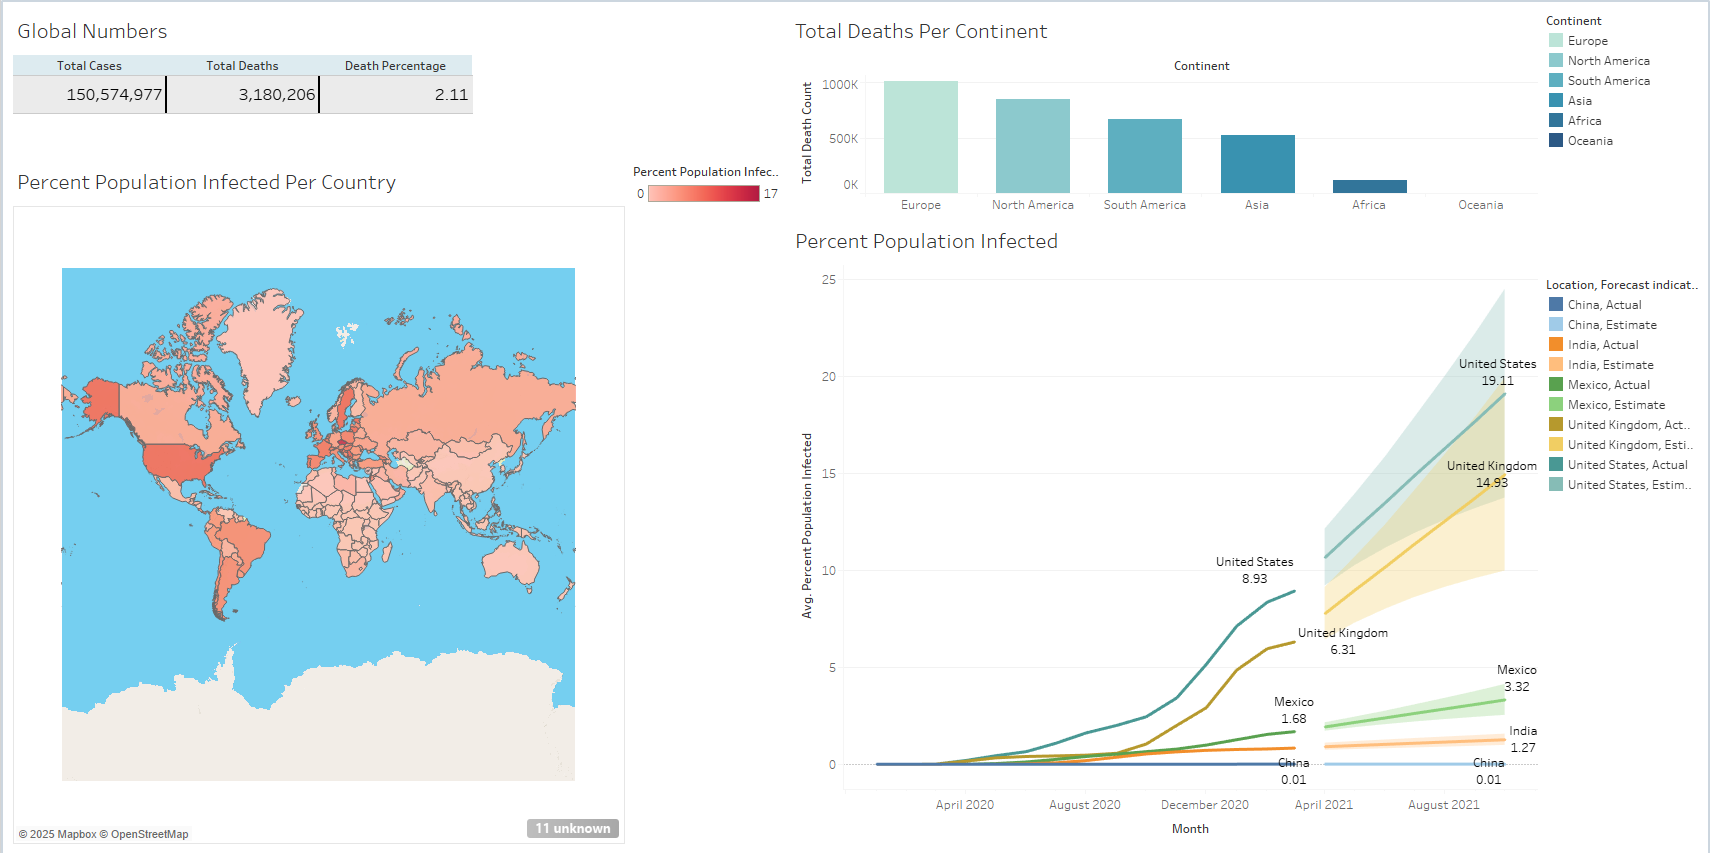

This screenshot's page, from the dashboard's own definition file:
{"tool":"tableau","page":{"name":"Dashboard 1","canvas":[1000,1000],"units":"permille","ordinal":0},"visuals":[{"type":"worksheet","title":"Sheet 1","mark":"Automatic","box":[4.7,9.3,455.2,176.4]},{"type":"worksheet","title":"Sheet 2","mark":"Automatic","rows":["TotalDeathCount"],"cols":["location"],"box":[459.9,9.3,441.8,245.3]},{"type":"legend","title":"Sheet 2","param":"[federated.1jgvn3l0on3e8q17me1po1qfhwdd].[none:location:nk]","box":[901.7,9.3,93.6,170.6]},{"type":"worksheet","title":"Sheet 3","mark":"Multipolygon","box":[4.7,185.8,362.8,804.9]},{"type":"legend","title":"Sheet 3","param":"[federated.1apg93l1v5ttf517p368l1is45r9].[sum:PercentPopulationInfected:qk]","box":[367.5,185.8,92.5,804.9]},{"type":"worksheet","title":"Sheet 4","mark":"Automatic","rows":["PercentPopulationInfected"],"cols":["date"],"box":[459.9,254.7,441.8,736]},{"type":"legend","title":"Sheet 4","param":"[federated.027p0pg1bh6b9m1bfezim0bg41d6].[none:Location:nk]\n[federated.027p0pg1b","box":[901.7,317.8,93.6,264]}]}

Visuals, with their boxes on the dashboard's canvas, which has no fixed pixel size, in thousandths of its width and height (x1, y1, x2, y2). These are canvas units, not pixel positions in the 1710x853 screenshot, which may show the page scaled, cropped or inside an application window:
"Sheet 1" worksheet: <region>5, 9, 460, 186</region>
"Sheet 2" worksheet: <region>460, 9, 902, 255</region>
"Sheet 2" legend: <region>902, 9, 995, 180</region>
"Sheet 3" worksheet (Multipolygon marks): <region>5, 186, 368, 991</region>
"Sheet 3" legend: <region>368, 186, 460, 991</region>
"Sheet 4" worksheet: <region>460, 255, 902, 991</region>
"Sheet 4" legend: <region>902, 318, 995, 582</region>
